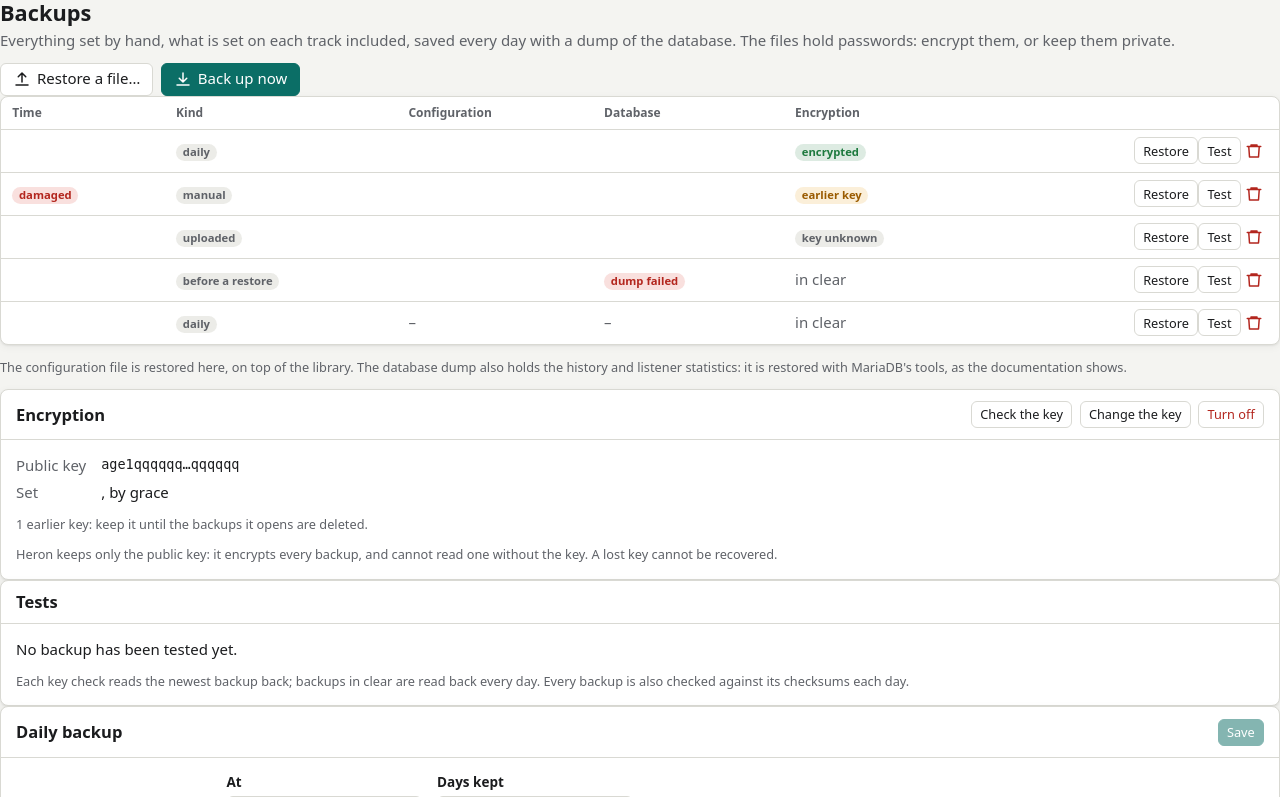
Test: testing › closes the test of a backup without testing it
Step 1. Click the button "Test" in the row of "encrypted" → {"x": 1219, "y": 151}, box [1198,138,1241,164]
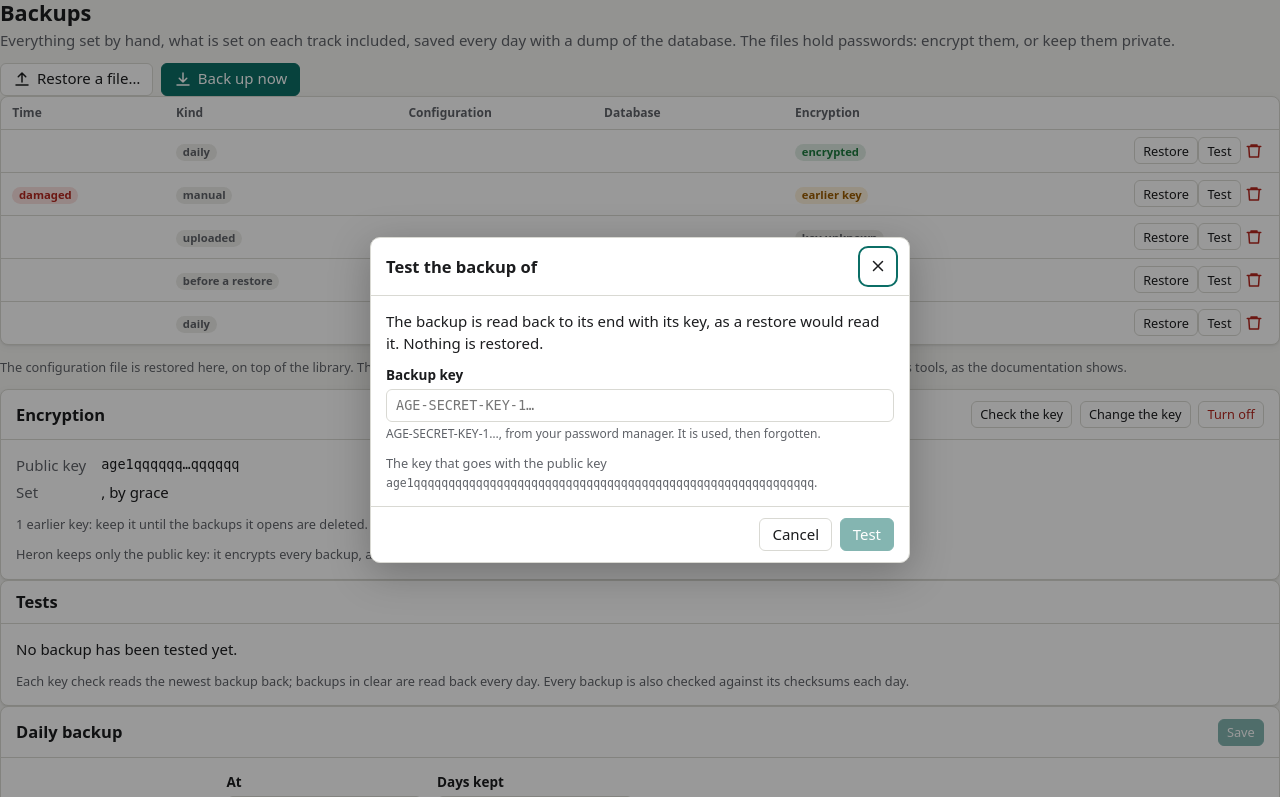
Step 2. Click the button "Cancel" → {"x": 796, "y": 535}, box [759,518,832,551]
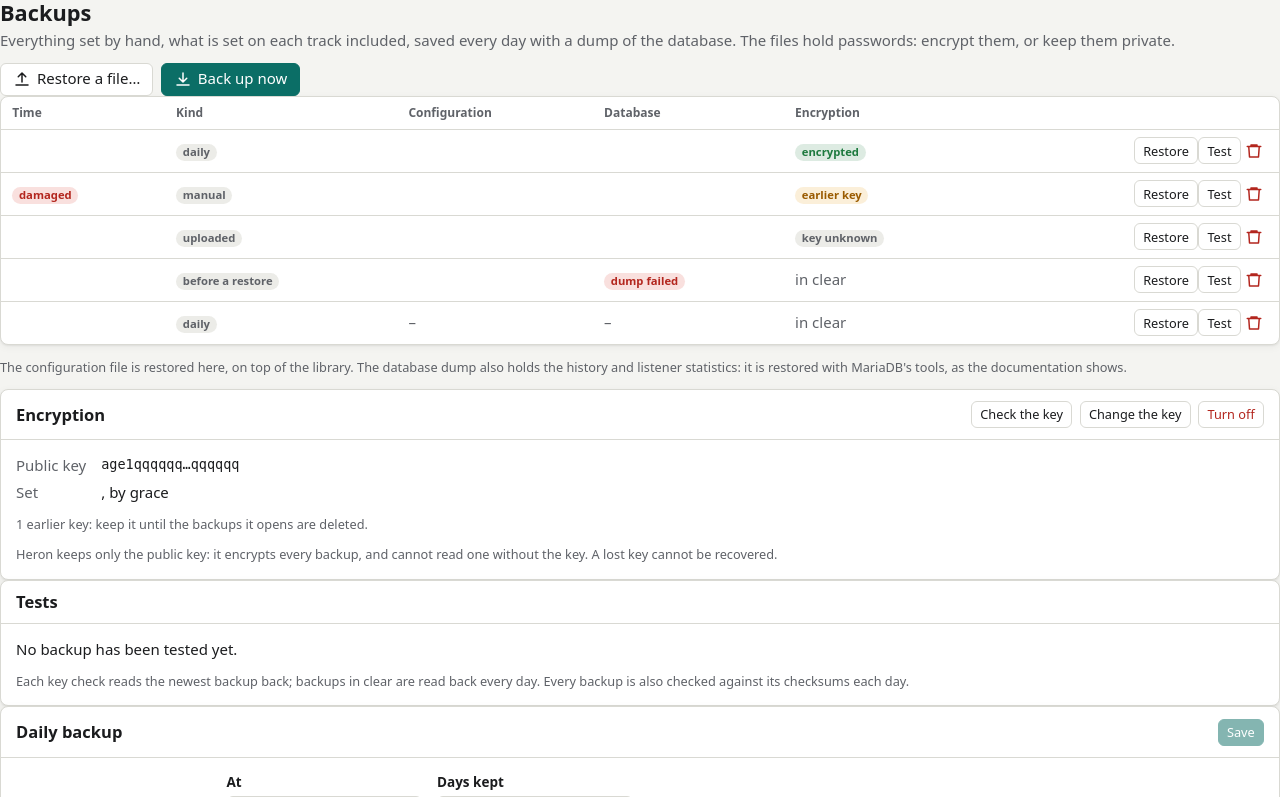
Check: the dialog is gone
